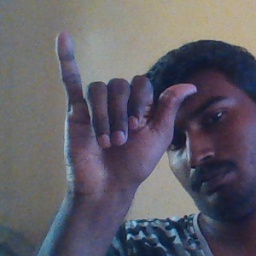J: (47, 28, 198, 189)
